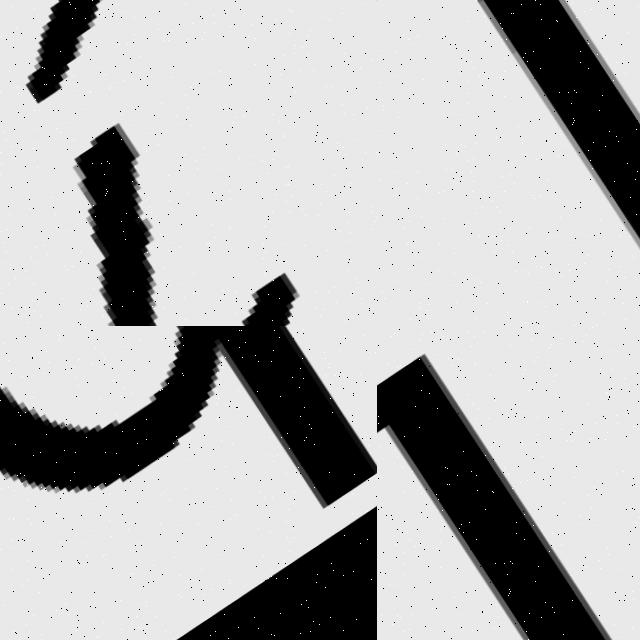I: (0, 0, 377, 326)
L: (377, 0, 640, 326), (377, 326, 640, 640)
Q: (0, 326, 377, 640)
